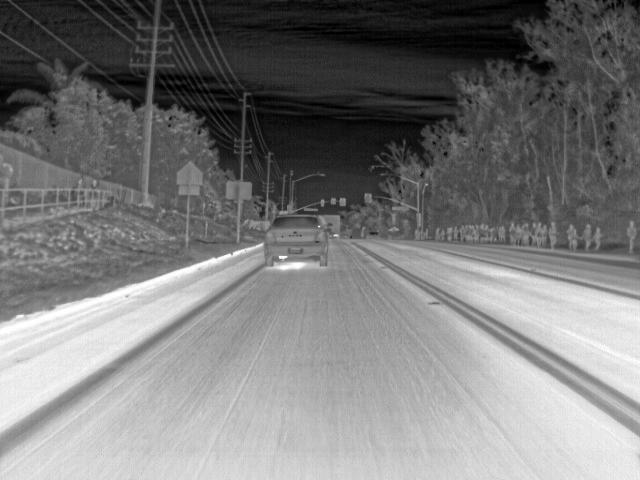car: (262, 216, 328, 266), (367, 229, 380, 240)
person: (626, 221, 639, 255), (582, 222, 594, 251), (567, 224, 579, 252), (593, 225, 605, 252), (549, 220, 558, 248), (532, 222, 542, 245), (541, 222, 549, 246), (524, 222, 532, 245), (515, 223, 523, 245), (509, 222, 516, 244), (474, 223, 482, 241), (483, 224, 491, 242), (532, 223, 537, 247), (467, 224, 474, 241), (433, 225, 440, 240), (460, 225, 467, 240), (490, 225, 497, 240), (446, 227, 454, 240), (500, 224, 506, 241), (440, 226, 446, 240), (454, 226, 460, 240)
